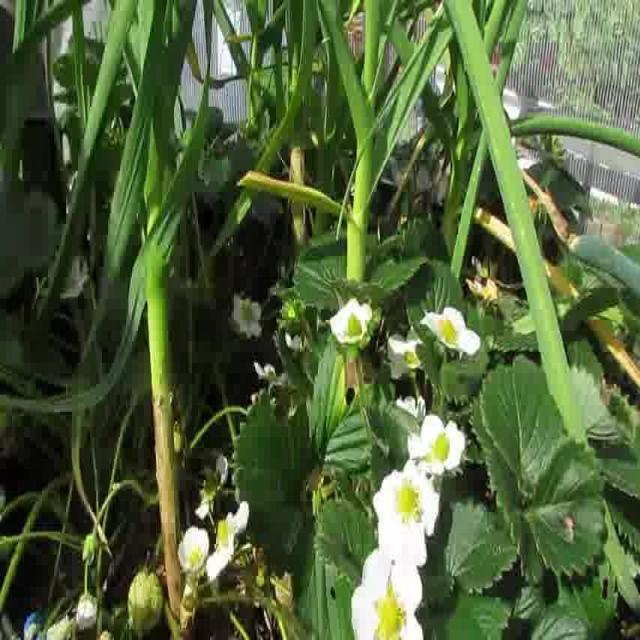Fruta sana: (346, 314, 364, 337)
